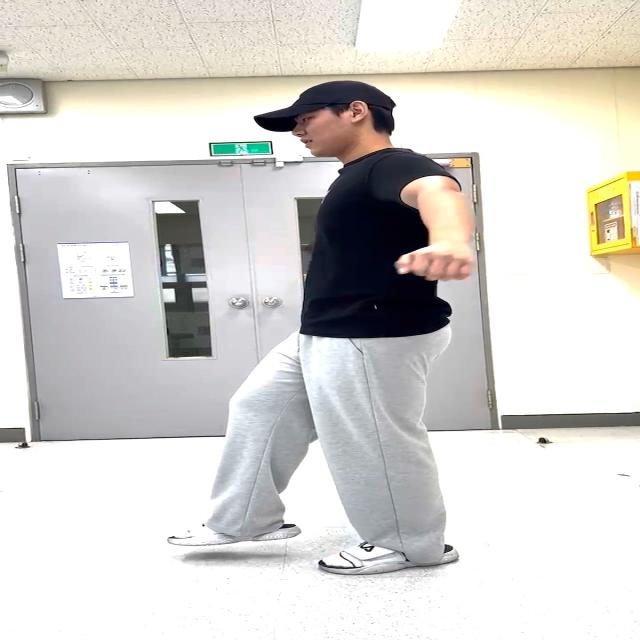leg: (177, 332, 311, 544)
